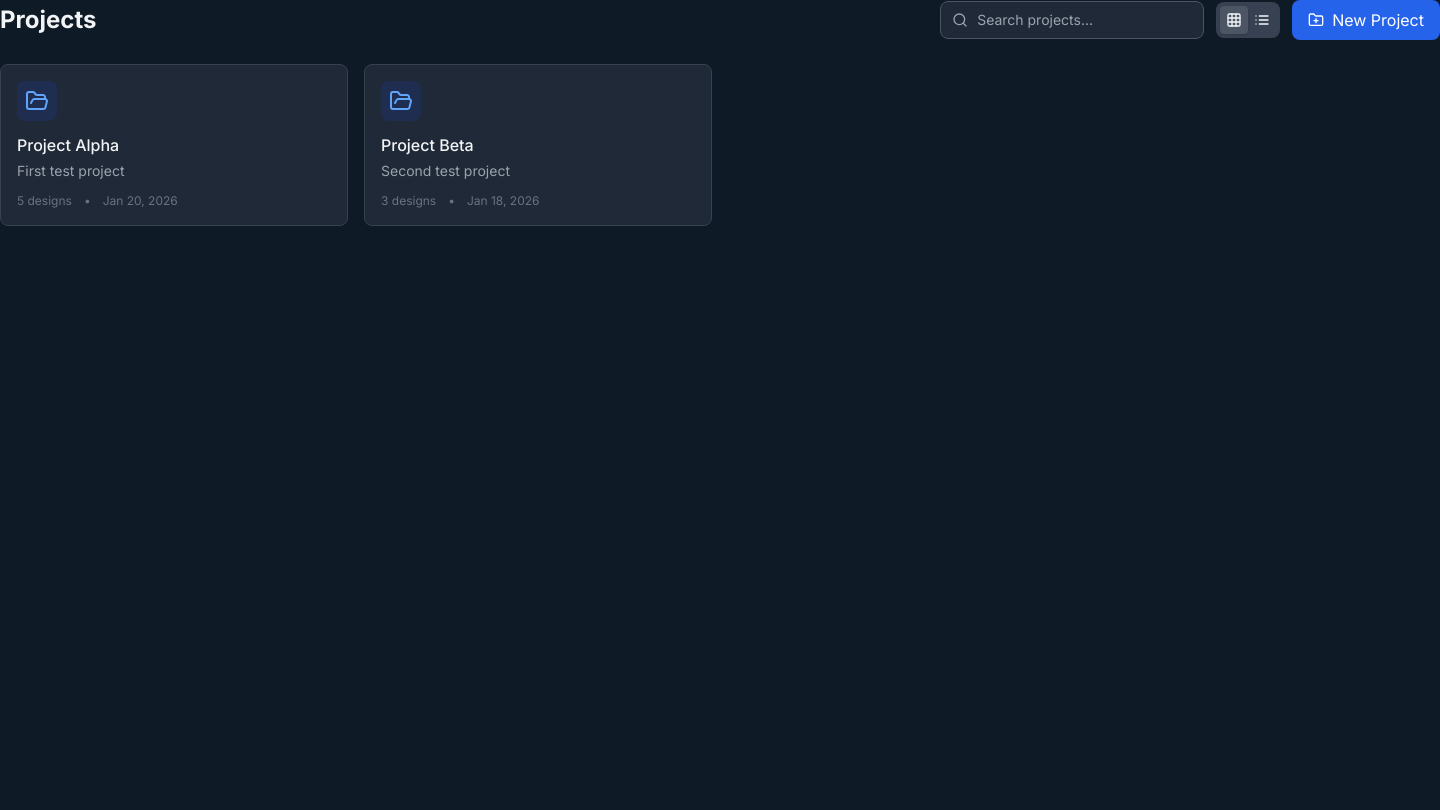
Test: ProjectsPage › opens create project modal
This screenshot has width=1440, height=810.
Click the button "New Project" at (1366, 20), box top-left (1292, 0), bottom-right (1439, 40)
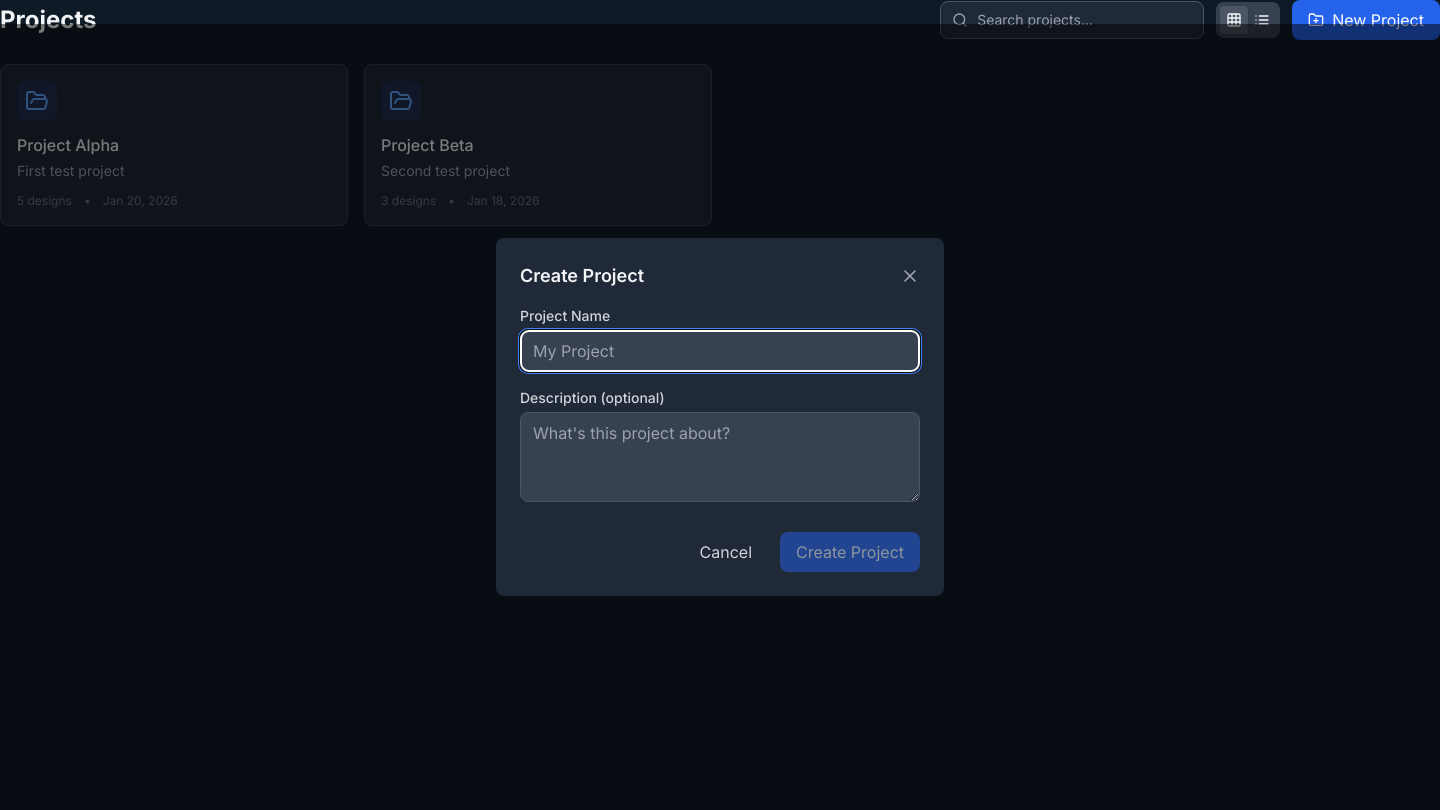
Now the text "Project Name" is shown, box top-left (520, 307), bottom-right (610, 324)
